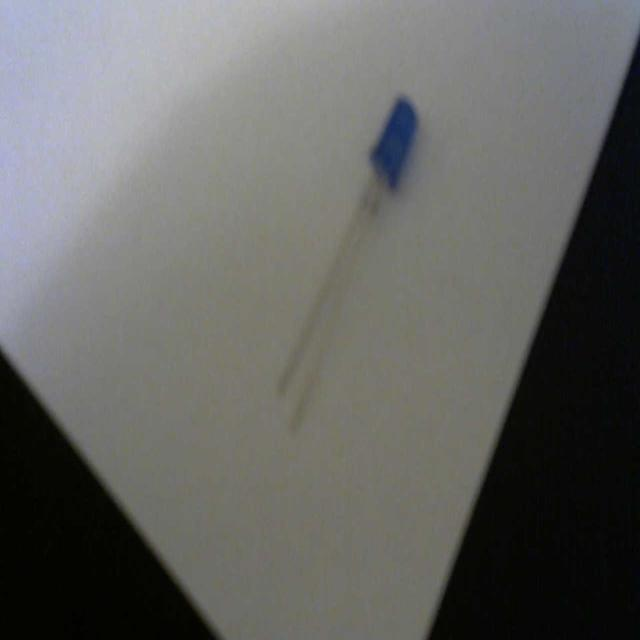blue_led: (369, 94, 417, 192)
